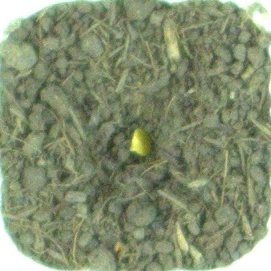chilli seed: (128, 125, 156, 158)
